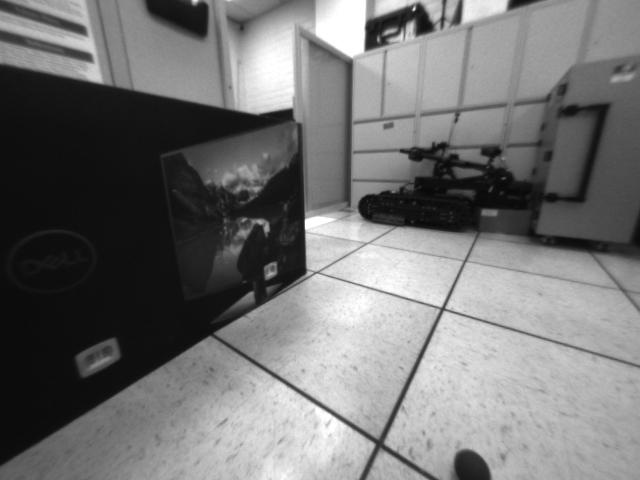dogtoy: (449, 441, 498, 480)
